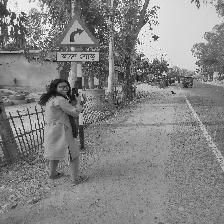Right-turn: (53, 14, 101, 63)
